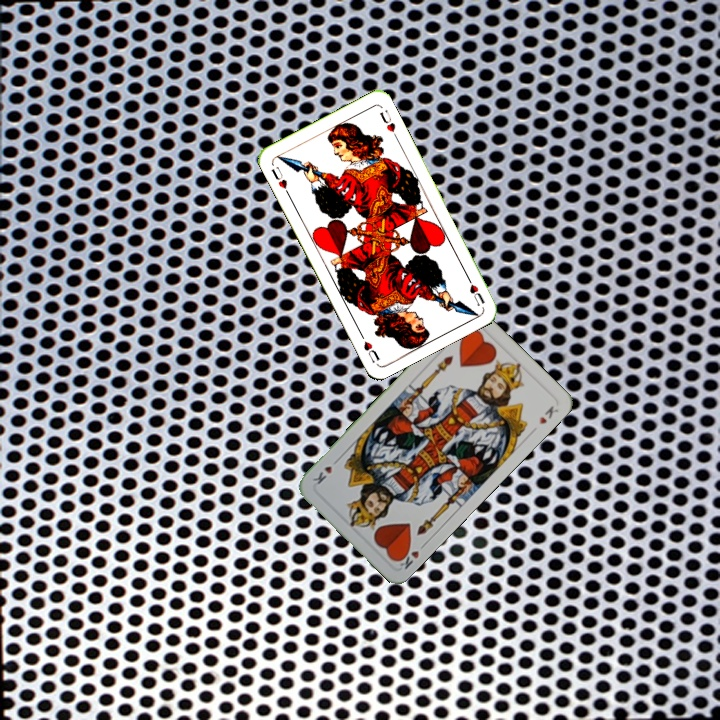HK: (393, 539, 429, 572)
HU: (462, 271, 487, 309), (267, 162, 292, 198)
